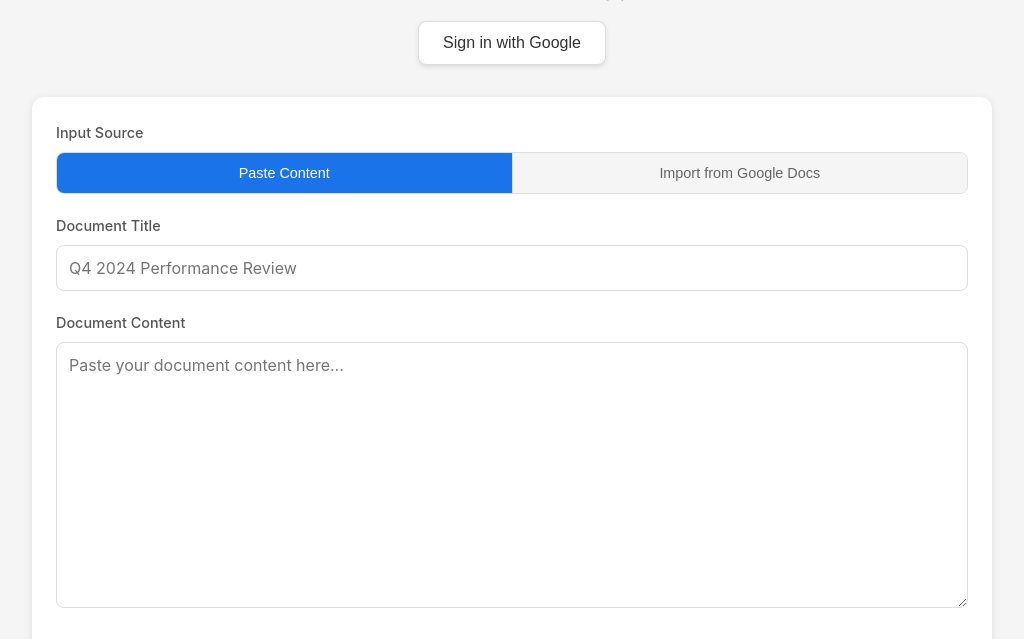
App › displays generated slides on success
Type "Test Title" into the field labelled "Document Title" at (512, 268), box 56,245 -> 968,291
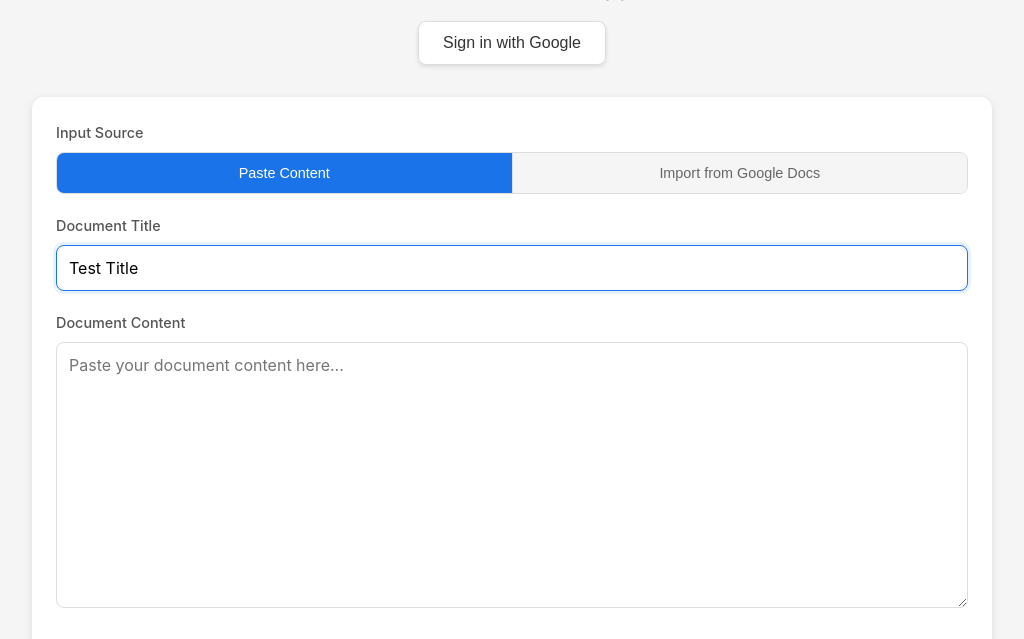
Type "Test content" into the text box labelled "Document Content" at (512, 475), box 56,342 -> 968,608
(page scrolled)
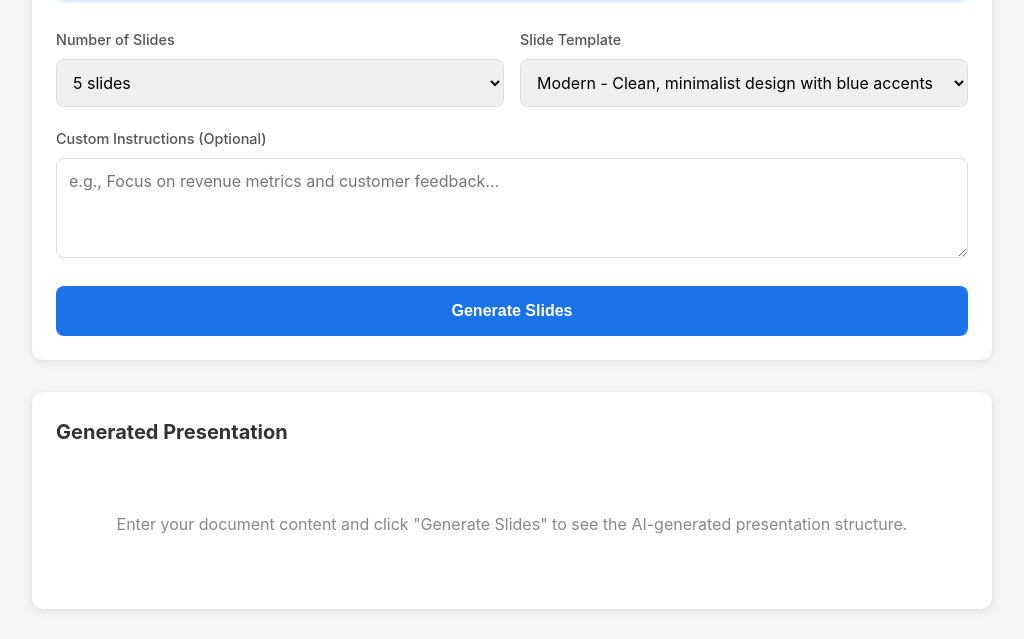
Click the button "Generate Slides" at (512, 311), box 56,286 -> 968,336
(page scrolled)
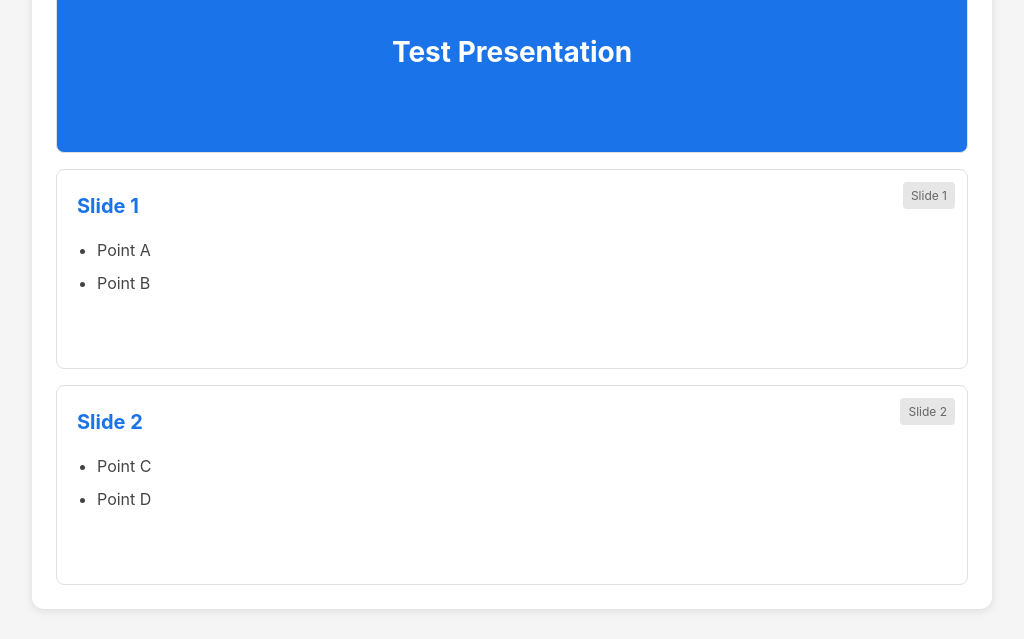
Check: the heading "Test Presentation" is shown, box 392,30 -> 632,75
Check: the heading "Slide 1" is shown, box 77,194 -> 139,218
Check: the list item "Point A" is shown, box 97,240 -> 151,260
